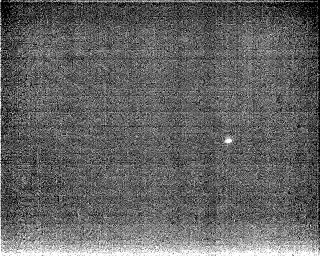AIRPLANE: (223, 136, 234, 146)
